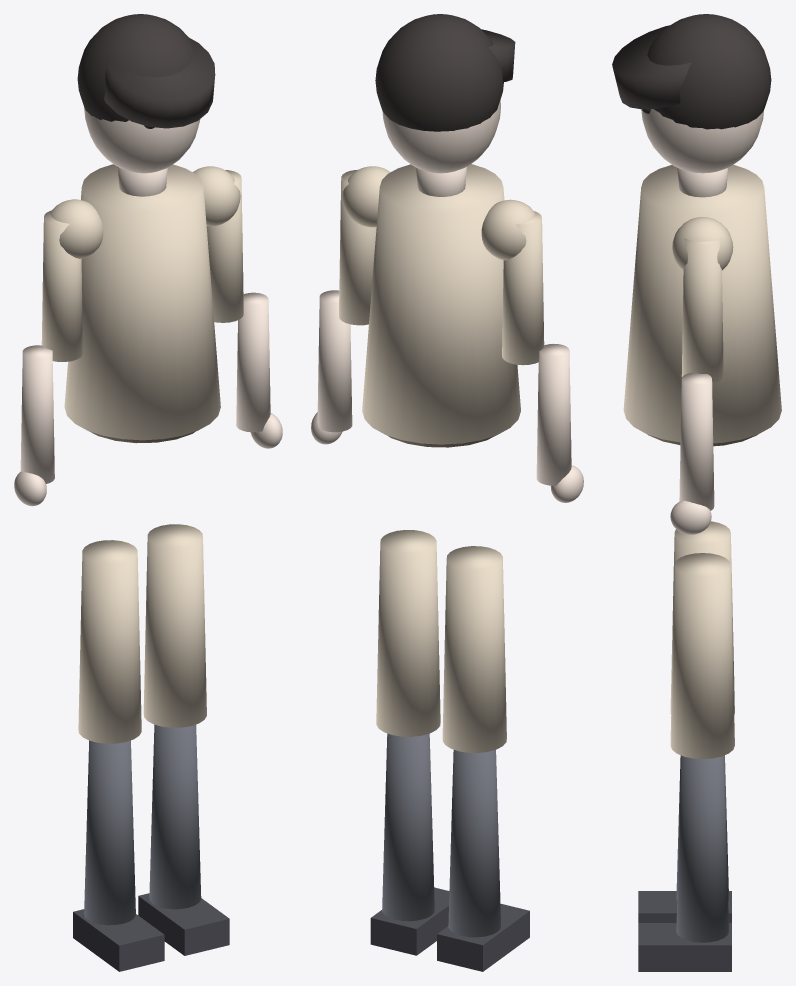
File: gu_yan.glb
3 views of the same model, side by side, from view 1: azimuth 30°, elevation 25°; view 2: azimuth 150°, elevation 25°; view 3: azimuth 270°, elevation 25° (orthographic).
Visible parts, largest first — view 1: Torso, ThighL, ThighR, ShinR, ShinL, HairCap, Fringe, UpperArmL, ForeArmR, Head, ForeArmL, FootL (+7 smaller); view 2: Torso, ThighR, ThighL, HairCap, ShinR, ShinL, UpperArmL, ForeArmL, ForeArmR, Head, UpperArmR, FootL (+6 smaller); view 3: Torso, ThighR, HairCap, ShinR, UpperArmR, Head, ForeArmR, Fringe, FootR, ThighL, ShoulderR, FootL (+3 smaller).
Boxes of the visible parts, left/top/right/bottom form: Torso: left=64, top=164, right=220, bottom=440; ThighL: left=78, top=540, right=141, bottom=743; ThighR: left=143, top=524, right=206, bottom=727; ShinR: left=149, top=724, right=201, bottom=909; ShinL: left=84, top=740, right=135, bottom=925; HairCap: left=77, top=14, right=193, bottom=121; Fringe: left=104, top=37, right=215, bottom=128; UpperArmL: left=41, top=210, right=83, bottom=361; ForeArmR: left=236, top=292, right=270, bottom=432; Head: left=84, top=107, right=200, bottom=173; ForeArmL: left=20, top=345, right=54, bottom=483; FootL: left=73, top=909, right=164, bottom=971; Torso: left=362, top=164, right=520, bottom=444; ThighR: left=376, top=530, right=440, bottom=736; ThighL: left=442, top=546, right=506, bottom=752; HairCap: left=375, top=14, right=503, bottom=131; ShinR: left=382, top=733, right=434, bottom=921; ShinL: left=448, top=750, right=500, bottom=937; UpperArmL: left=502, top=211, right=544, bottom=365; ForeArmL: left=536, top=343, right=571, bottom=485; ForeArmR: left=317, top=290, right=352, bottom=432; Head: left=382, top=100, right=500, bottom=173; UpperArmR: left=339, top=169, right=376, bottom=325; FootL: left=437, top=904, right=529, bottom=971; Torso: left=623, top=165, right=781, bottom=443; ThighR: left=670, top=553, right=734, bottom=759; HairCap: left=647, top=14, right=771, bottom=129; ShinR: left=676, top=755, right=728, bottom=942; UpperArmR: left=681, top=238, right=723, bottom=383; Head: left=641, top=109, right=763, bottom=173; ForeArmR: left=679, top=372, right=714, bottom=510; Fringe: left=612, top=25, right=691, bottom=109; FootR: left=638, top=923, right=731, bottom=971; ThighL: left=670, top=521, right=734, bottom=714; ShoulderR: left=672, top=217, right=733, bottom=270; FootL: left=638, top=891, right=731, bottom=922.
Bounding box in the file's own units: 0.5212 × 1.74 × 0.2896.
